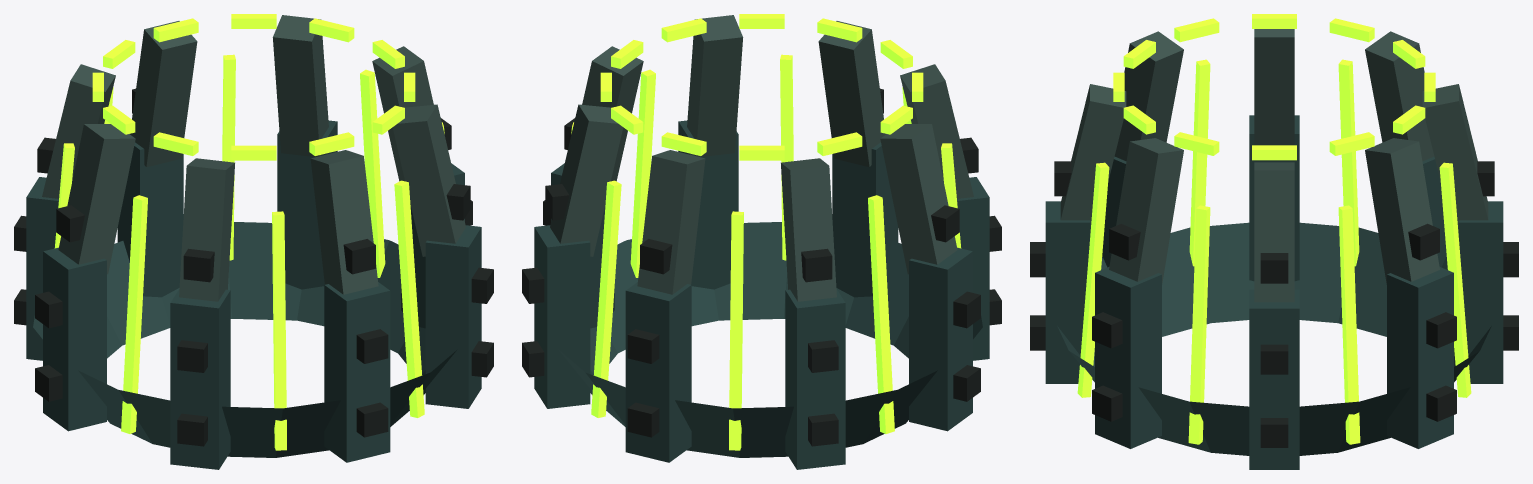
The model's file is waking_drill_crown.glb.
The picture shows the model from 3 angles, left to right: view 1: azimuth 30°, elevation 25°; view 2: azimuth 150°, elevation 25°; view 3: azimuth 270°, elevation 25°; orthographic projection.
Parts seen in each view (by area): view 1: WakingCrownBody, WakingCrownSeams; view 2: WakingCrownBody, WakingCrownSeams; view 3: WakingCrownBody, WakingCrownSeams.
Part boxes in pixels (box(x1,y1,x2,y2)): WakingCrownBody: box(14, 15, 493, 469); WakingCrownSeams: box(54, 14, 444, 450); WakingCrownBody: box(522, 15, 1001, 469); WakingCrownSeams: box(571, 14, 961, 450); WakingCrownBody: box(1030, 29, 1518, 469); WakingCrownSeams: box(1077, 14, 1471, 444).
Bounding box in the file's own units: 6.04 × 4.17 × 6.04.
